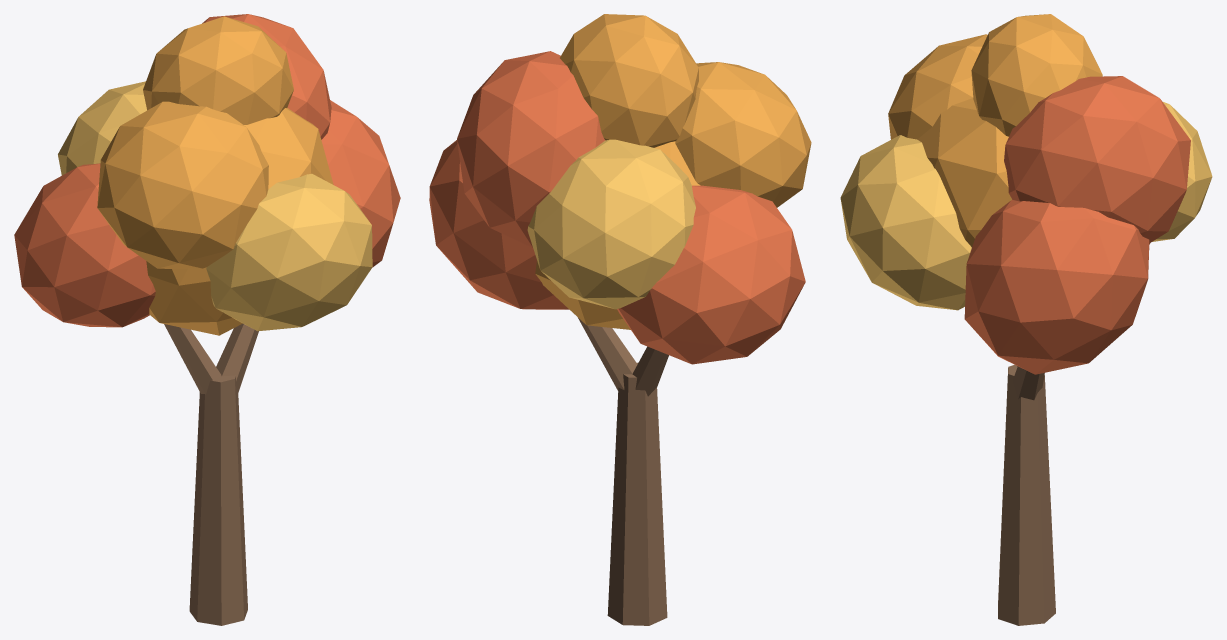
File: th4_ahorn.glb
The picture shows the model from 3 angles, left to right: view 1: azimuth 30°, elevation 25°; view 2: azimuth 150°, elevation 25°; view 3: azimuth 270°, elevation 25°; orthographic projection.
Parts seen in each view (by area): view 1: AhornHerbst; view 2: AhornHerbst; view 3: AhornHerbst.
Boxes of the visible parts, <box> form: AhornHerbst: <box>14,14,400,625</box>; AhornHerbst: <box>429,14,811,625</box>; AhornHerbst: <box>840,14,1212,625</box>.
Bounding box in the file's own units: 3.23 × 5.14 × 2.91.
